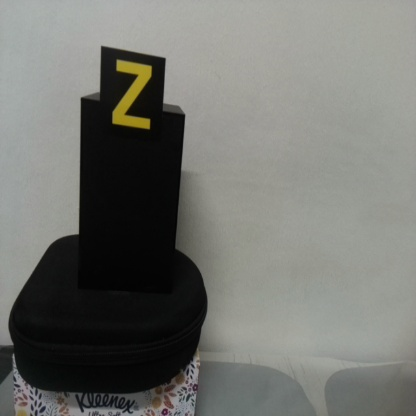id_15: (102, 46, 165, 149)
